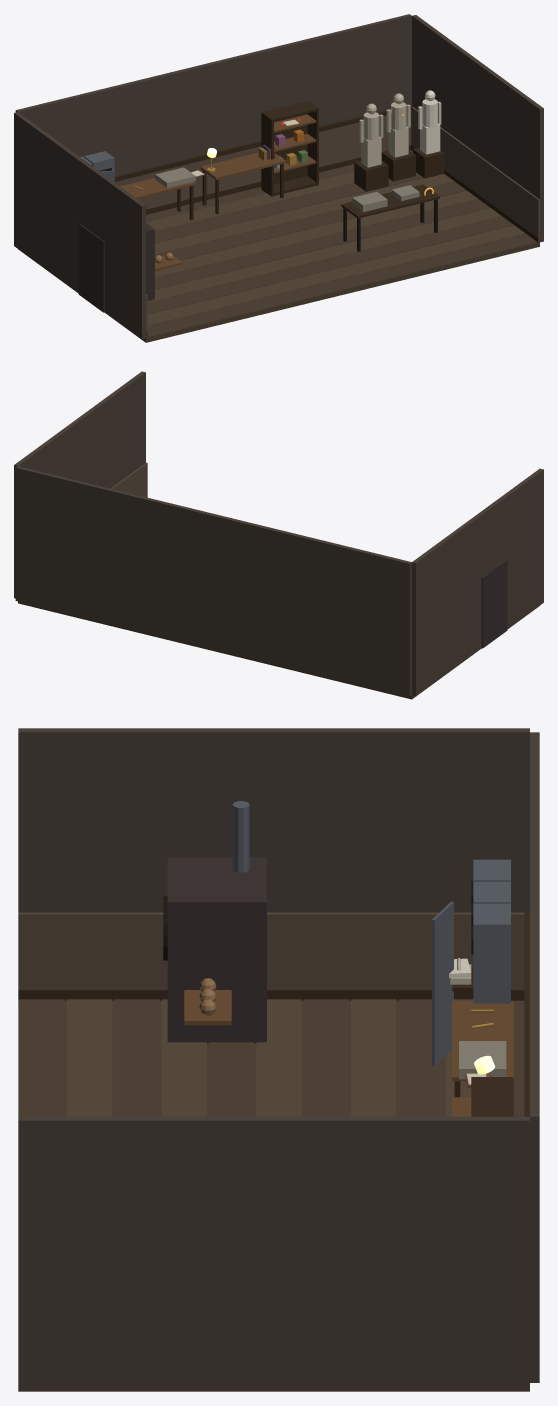
The model's file is workshop.glb.
The picture shows the model from 3 angles, top to bottom: view 1: azimuth 30°, elevation 25°; view 2: azimuth 150°, elevation 25°; view 3: azimuth 270°, elevation 25°; orthographic projection. The views are drawn at different scales.
Visible parts, largest first — view 1: WallBack, WallLeft, WallRight, Plank0, Plank1, Plank2, BandRight, BandBack, Plank3, Plank4, Plank5, Floor (+28 smaller); view 2: WallBack, WallLeft, WallRight, Kiln, Floor, BandRight; view 3: WallRight, WallLeft, BandLeft, Kiln, WallBack, Floor, Plank1, Plank0, Plank2, Plank6, Plank7, Plank5 (+14 smaller).
Boxes of the visible parts, x1,y1,x2,y2 form: WallBack: (15,14,411,175); WallLeft: (14,112,145,339); WallRight: (412,15,543,242); Plank0: (147,234,537,337); Plank1: (147,225,525,325); Plank2: (147,216,513,314); BandRight: (411,107,539,242); BandBack: (114,110,411,209); Plank3: (147,208,501,302); Plank4: (155,199,490,289); Plank5: (155,190,477,277); Floor: (18,150,539,342); WallBack: (15,466,411,696); WallLeft: (412,468,543,695); WallRight: (14,371,145,598); Kiln: (481,559,507,648); Floor: (18,601,538,699); BandRight: (111,462,147,497); WallRight: (18,1116,529,1386); WallLeft: (18,728,529,912); BandLeft: (18,912,524,989); Kiln: (167,857,266,1043); WallBack: (530,732,539,1382); Floor: (18,1000,529,1391); Plank1: (66,999,112,1116); Plank0: (19,999,64,1116); Plank2: (114,999,159,1116); Plank6: (303,999,348,1116); Plank7: (351,999,396,1116); Plank5: (256,999,301,1116).
Bounding box in the file's own units: 9.83 × 3.2 × 5.5.
